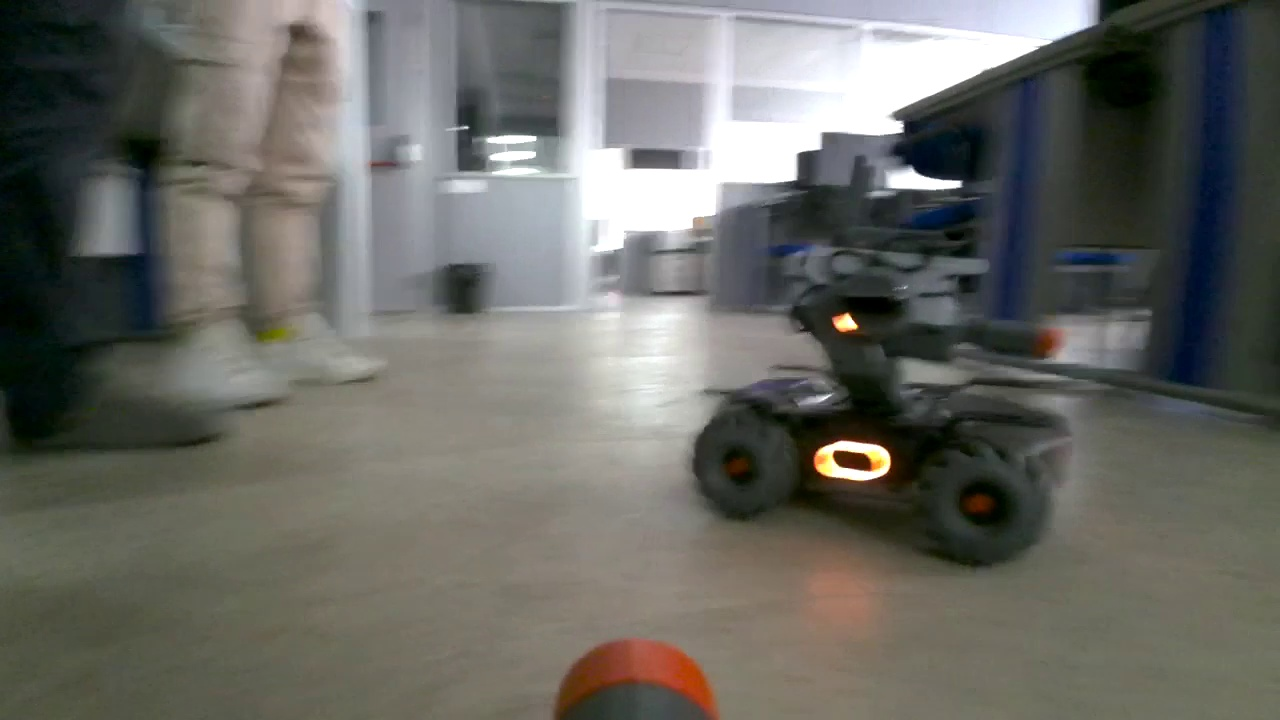robot: (687, 157, 1068, 555)
